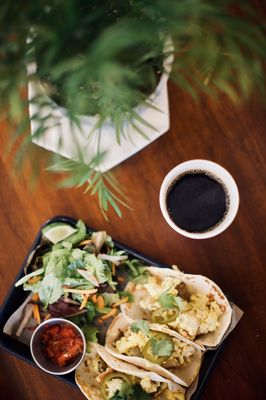sushi: (30, 318, 86, 376)
